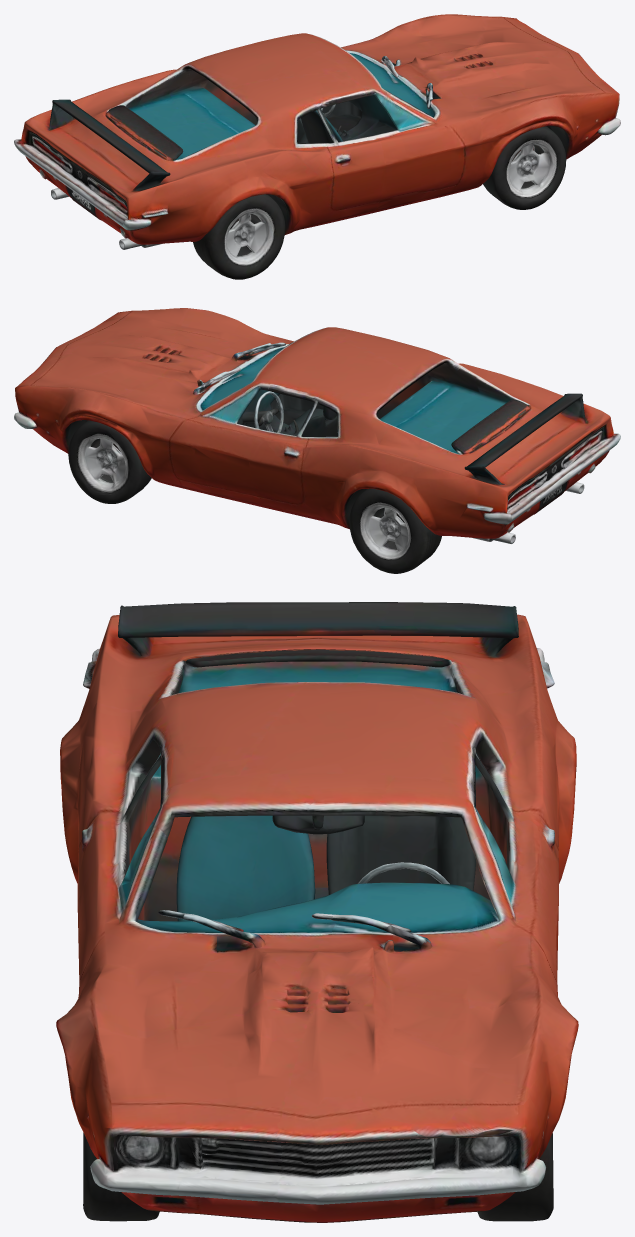
File: brute.glb
3 views of the same model, one above another, from view 1: azimuth 30°, elevation 25°; view 2: azimuth 150°, elevation 25°; view 3: azimuth 270°, elevation 25° (orthographic). The views are drawn at different scales.
Parts seen in each view (by area): view 1: node_1e42550c-381e-4396-83ad-d31cd81d73a1; view 2: node_1e42550c-381e-4396-83ad-d31cd81d73a1; view 3: node_1e42550c-381e-4396-83ad-d31cd81d73a1.
Boxes of the visible parts, bbox=[...] form: node_1e42550c-381e-4396-83ad-d31cd81d73a1: bbox=[14, 14, 620, 279]; node_1e42550c-381e-4396-83ad-d31cd81d73a1: bbox=[14, 308, 620, 573]; node_1e42550c-381e-4396-83ad-d31cd81d73a1: bbox=[56, 602, 578, 1222].
Bounding box in the file's own units: 0.9997 × 0.2796 × 0.4416.
1 material, 1 textured.
